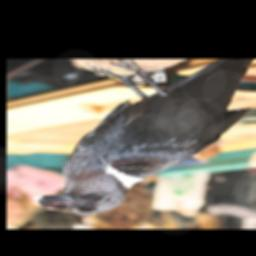Crow: (33, 59, 255, 217)
